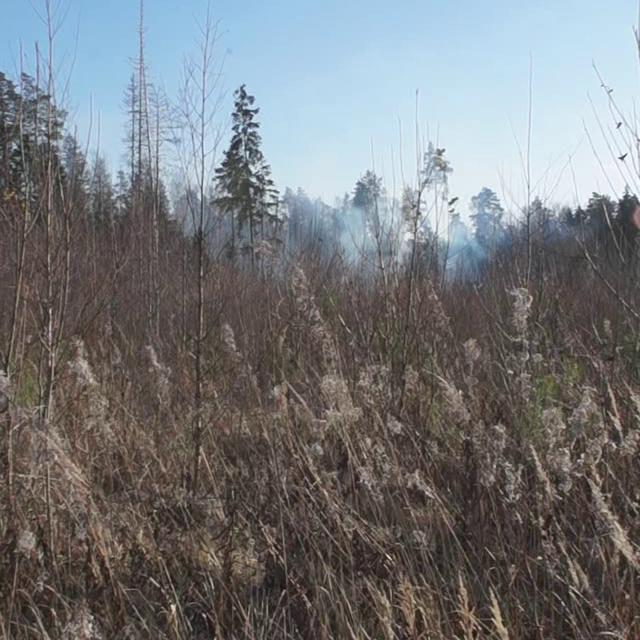Smoke: (153, 156, 516, 294)
